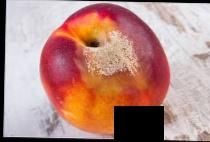rotten apple: (36, 3, 187, 136)
